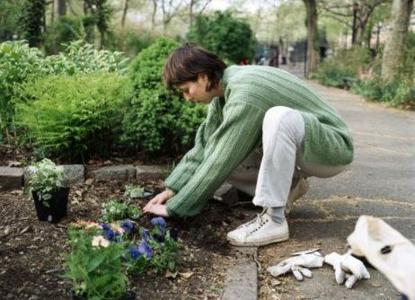person: (140, 42, 354, 246)
